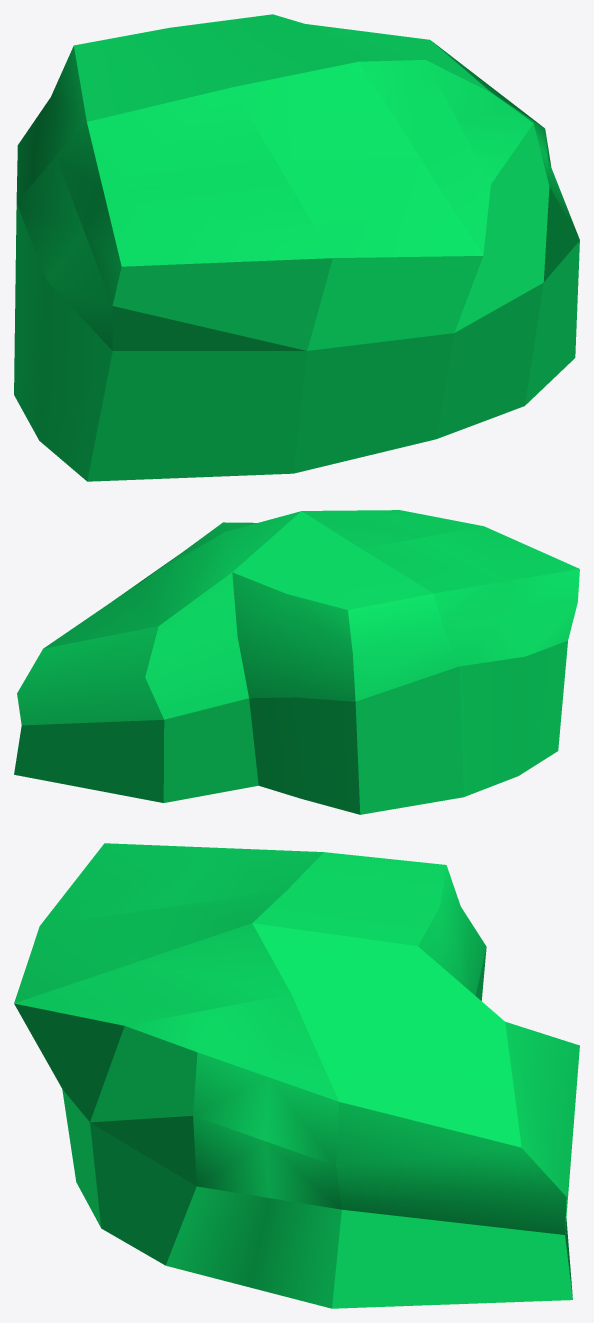
The model's file is LargeRock_04_Collider.fbx.
3 renders of one model, top to bottom at view 1: azimuth 30°, elevation 25°; view 2: azimuth 150°, elevation 25°; view 3: azimuth 270°, elevation 25°, orthographic. The views are drawn at different scales.
Parts seen in each view (by area): view 1: LargeRock_04_Collider; view 2: LargeRock_04_Collider; view 3: LargeRock_04_Collider.
Boxes of the visible parts, <box> form: LargeRock_04_Collider: <box>14,14,579,481</box>; LargeRock_04_Collider: <box>14,510,579,814</box>; LargeRock_04_Collider: <box>14,843,579,1308</box>.
Bounding box in the file's own units: 1396 × 715 × 1332.
